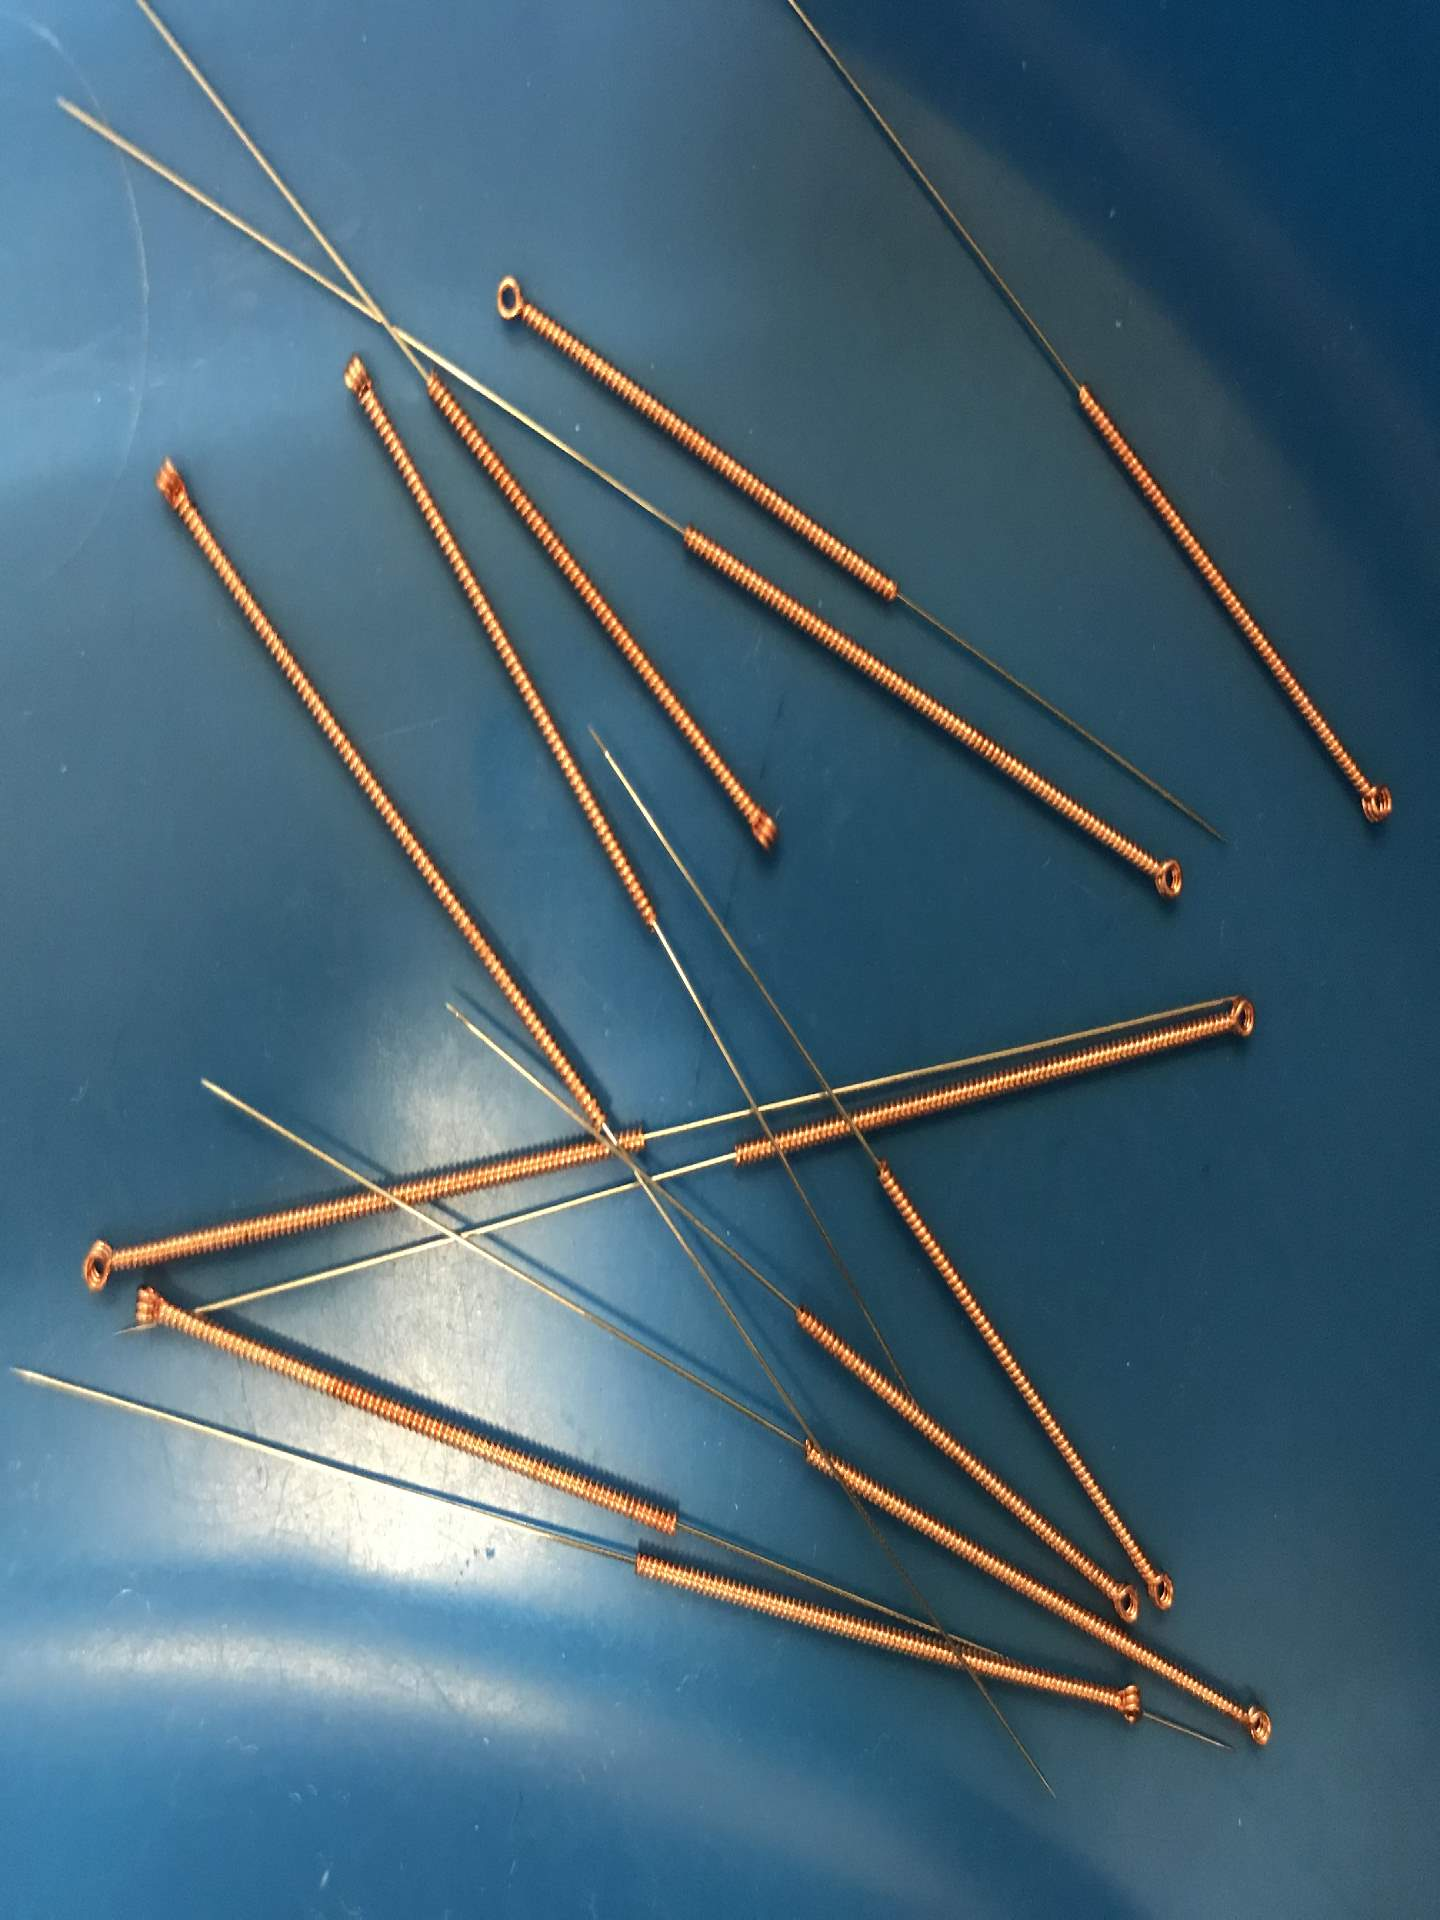needle: (138, 441, 204, 528), (322, 333, 387, 420), (473, 263, 543, 340), (726, 791, 796, 865), (1224, 1684, 1286, 1764), (1136, 844, 1199, 915), (1345, 763, 1404, 839), (121, 1274, 183, 1346), (68, 1225, 126, 1299), (1213, 983, 1269, 1055), (1097, 1674, 1150, 1734), (1141, 1554, 1186, 1624), (1097, 1571, 1147, 1631)
